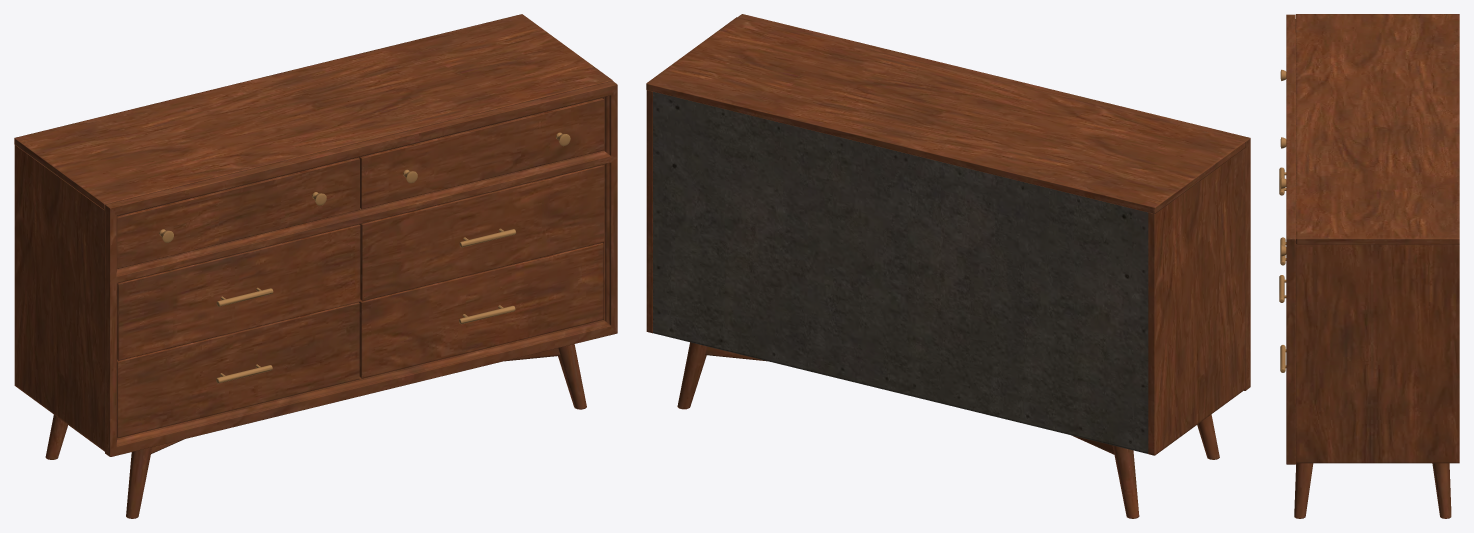
File: abo-B07B4SBZDV.glb
The picture shows the model from 3 angles, left to right: view 1: azimuth 30°, elevation 25°; view 2: azimuth 150°, elevation 25°; view 3: azimuth 270°, elevation 25°; orthographic projection. The views are drawn at different scales.
Bounding box in the file's own units: 1.47 × 0.889 × 0.5.
1 material, 1 textured.
